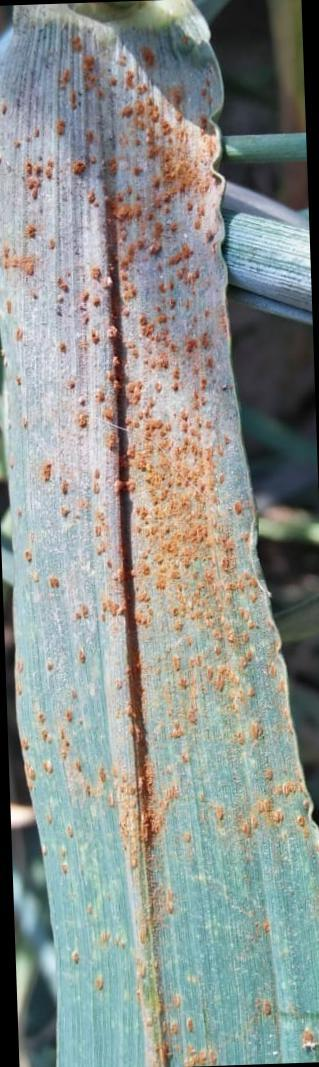Wheat: (60, 794, 291, 1041), (5, 40, 214, 311), (20, 536, 238, 772), (24, 324, 213, 519)
